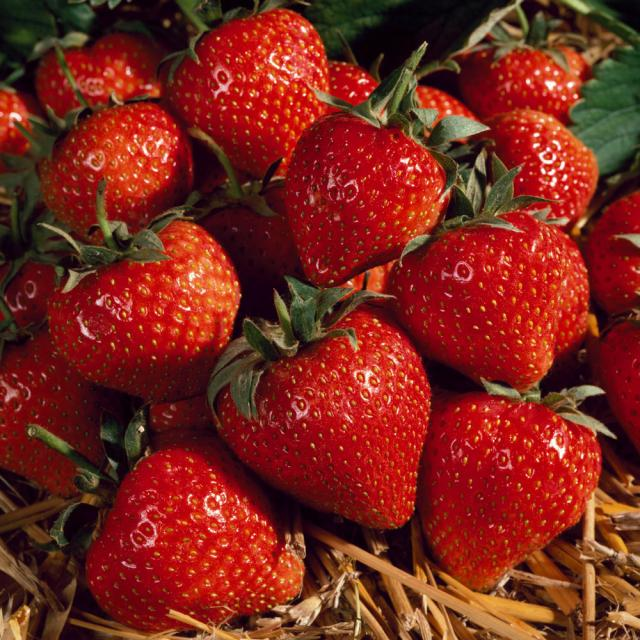strawberry: (208, 306, 433, 538), (416, 385, 616, 599), (94, 437, 293, 631), (59, 215, 246, 414), (400, 217, 598, 384), (279, 102, 452, 278), (168, 10, 340, 173), (42, 96, 207, 238), (2, 324, 124, 500), (482, 108, 594, 224), (463, 26, 589, 124), (210, 165, 300, 295), (31, 27, 162, 114), (596, 315, 640, 462), (0, 218, 52, 336), (595, 188, 640, 318)
